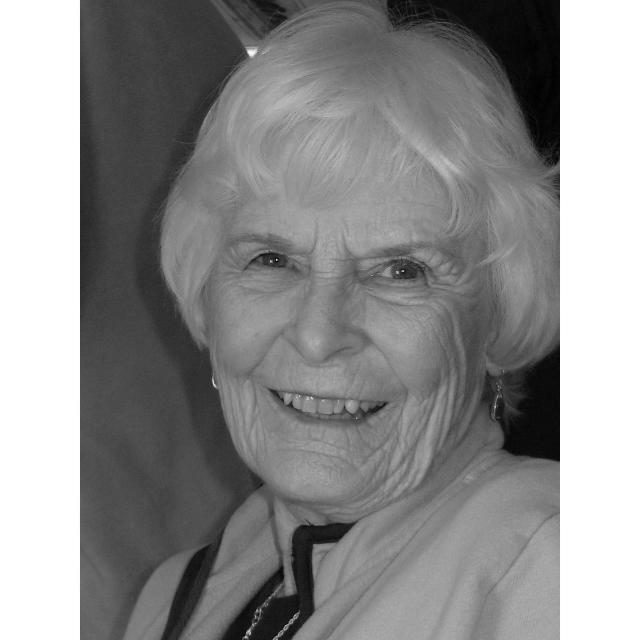real: (206, 162, 464, 496)
